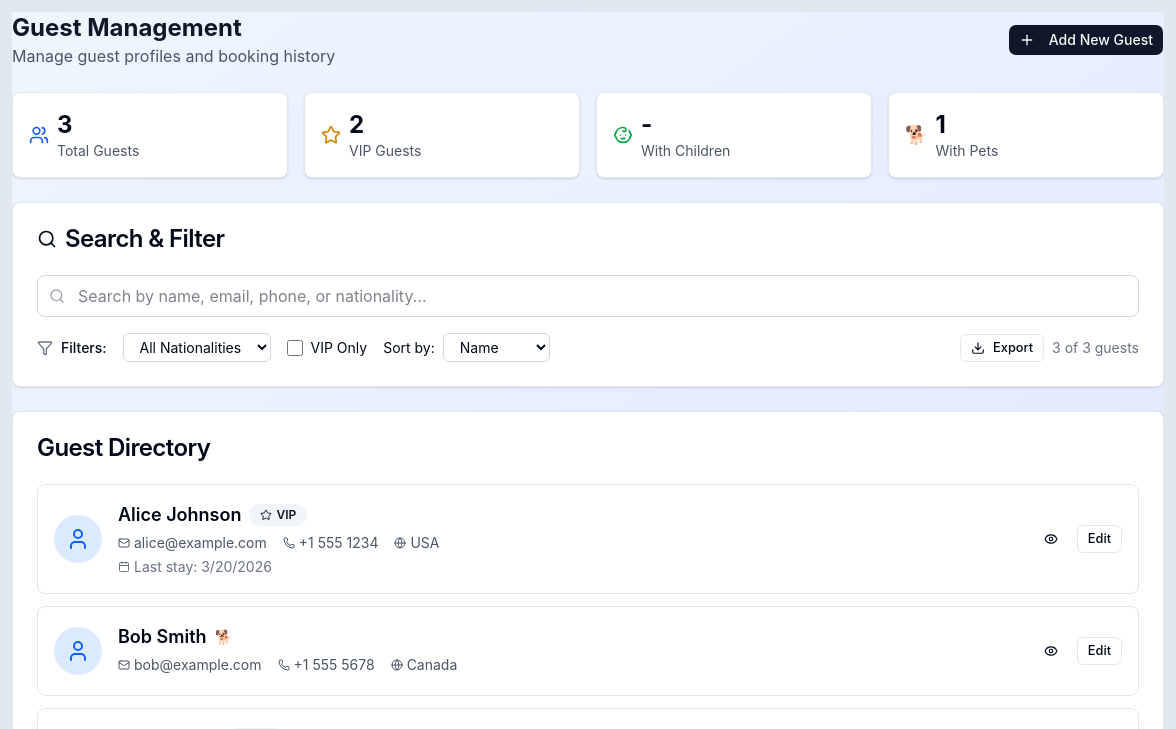
it: GuestManagementPage › search filter › filters guests by email
The image size is (1176, 729).
Type "carol@example.com" into the field with placeholder "Search by name, email, phone, or nationality..." at (588, 296), box [37,275,1139,317]
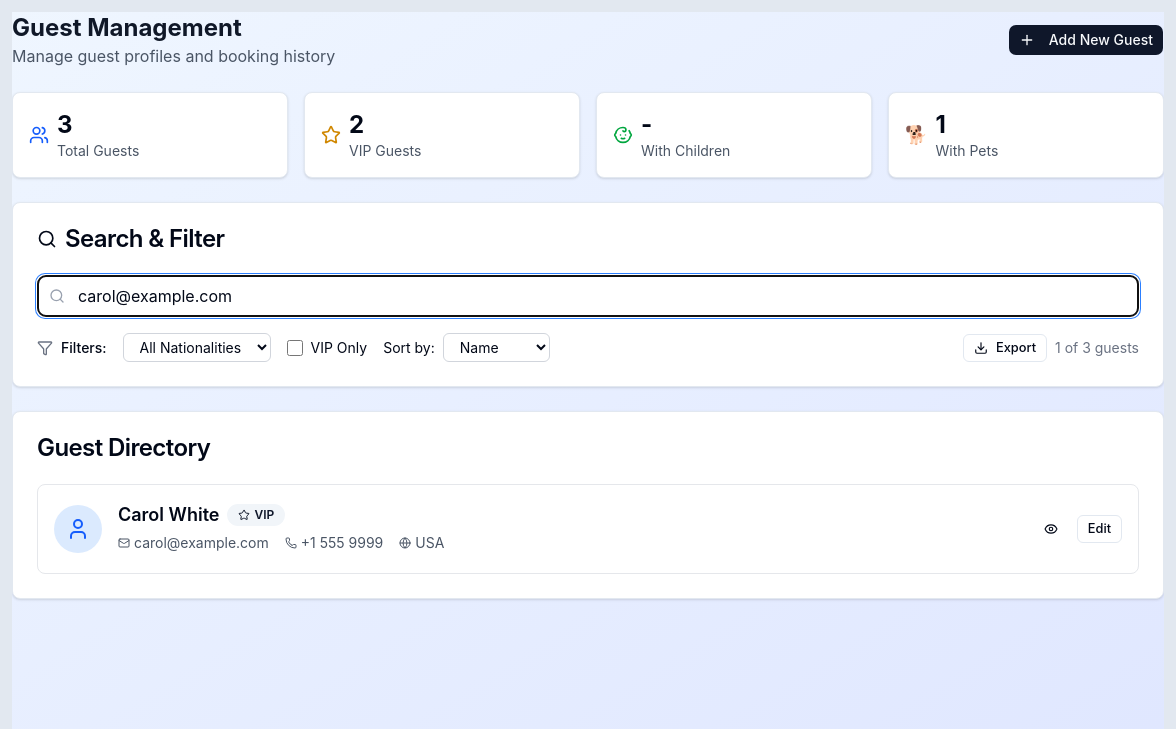
Expected: the heading "Carol White" is shown, [118,501,220,529]
Expected: the heading "Alice Johnson" is gone
